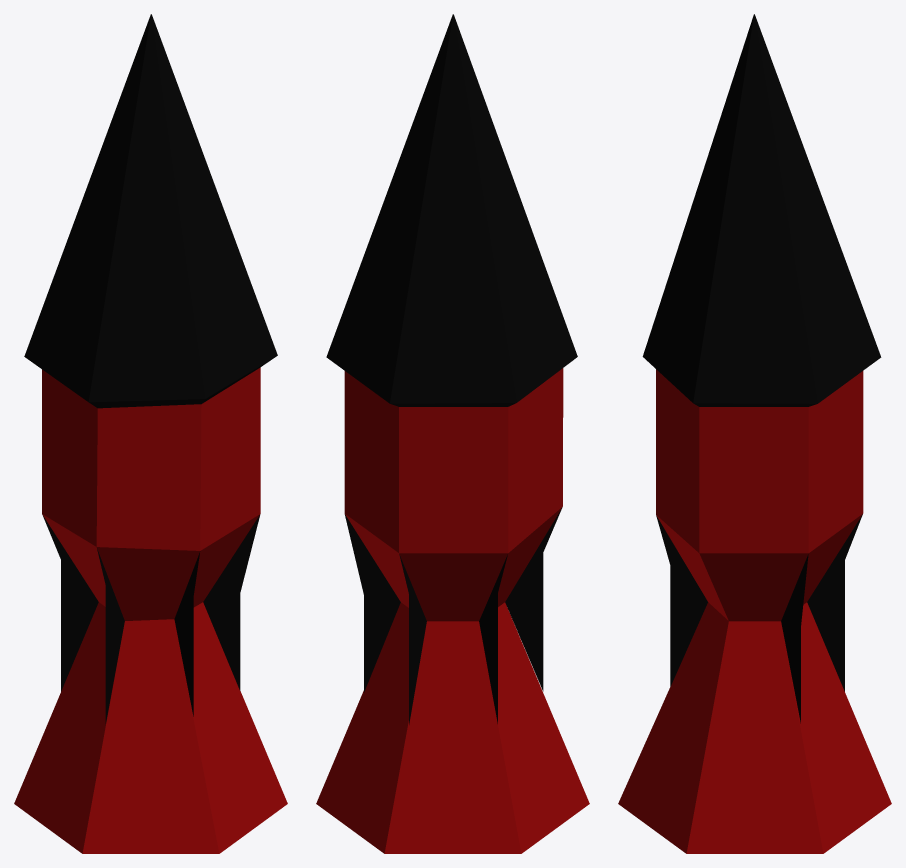
Rendered from projectileMissile.fbx.
The picture shows the model from 3 angles, left to right: view 1: azimuth 30°, elevation 25°; view 2: azimuth 150°, elevation 25°; view 3: azimuth 270°, elevation 25°; orthographic projection.
Visible parts, largest first — view 1: Circle; view 2: Circle; view 3: Circle.
Part boxes in pixels (left/top/right/bottom): Circle: left=14, top=14, right=287, bottom=853; Circle: left=316, top=14, right=589, bottom=853; Circle: left=618, top=14, right=891, bottom=853.
Size of the model in its own units: 197 by 723 by 227.
